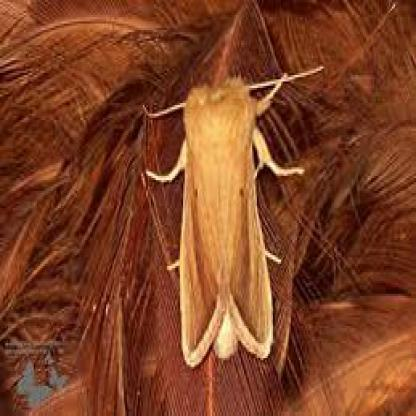stem-borer: (176, 71, 277, 374)
